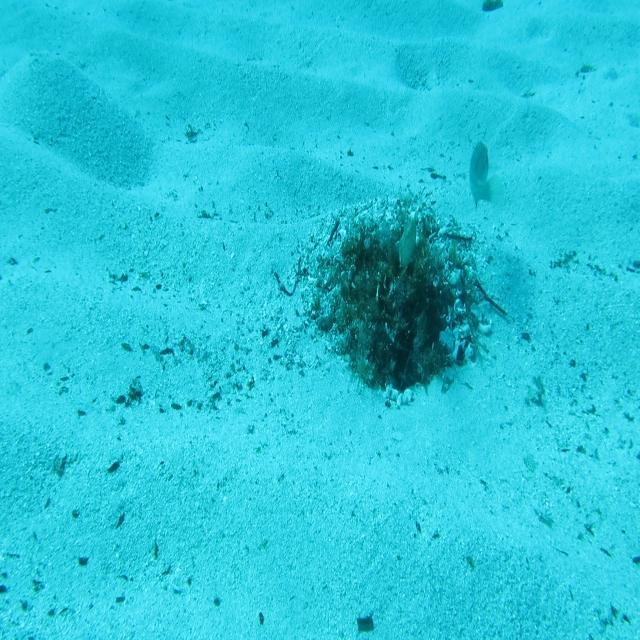NIP_CORE: (395, 208, 419, 278)
core_nest: (366, 245, 410, 277)
female: (468, 140, 506, 209)
nest: (286, 180, 500, 427)
vegetation: (356, 616, 375, 631), (481, 0, 503, 11)
